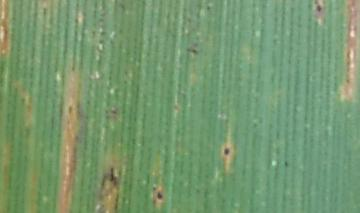tarspot: (104, 103, 123, 122), (218, 142, 236, 161), (153, 183, 167, 205), (107, 164, 119, 188), (186, 42, 201, 58), (314, 1, 326, 16), (66, 100, 74, 119), (280, 158, 293, 169), (205, 2, 215, 12)
